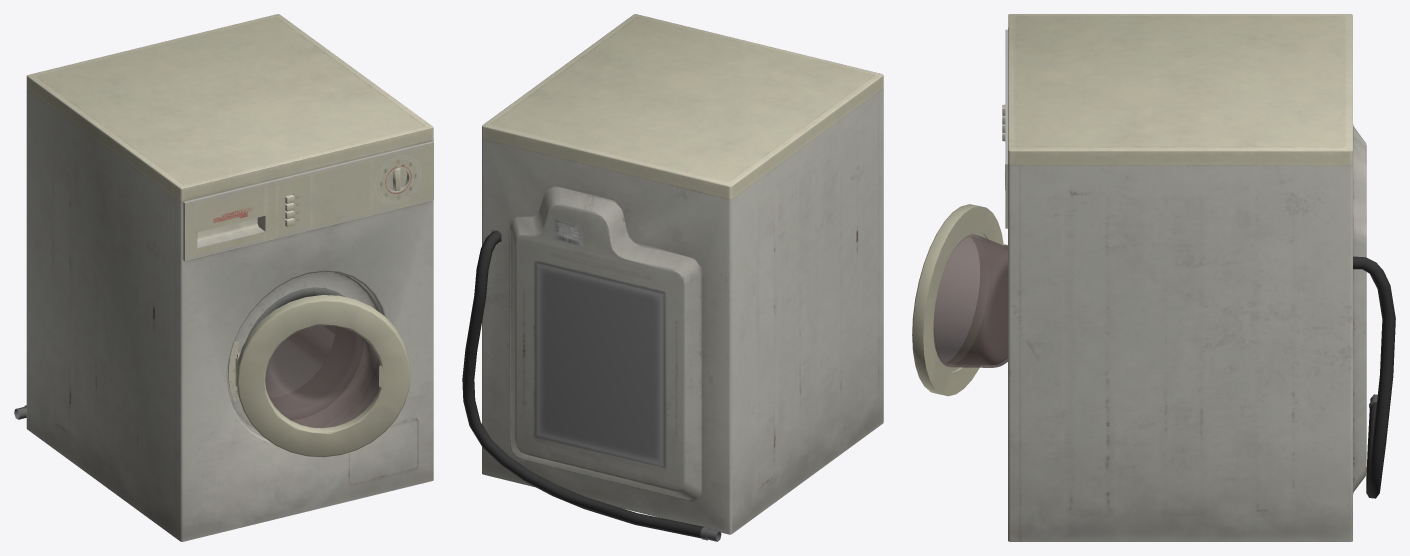
Rendered from washer.glb.
3 views of the same model, side by side, from view 1: azimuth 30°, elevation 25°; view 2: azimuth 150°, elevation 25°; view 3: azimuth 270°, elevation 25° (orthographic). The views are drawn at different scales.
Visible parts, largest first — view 1: washer_m1, washer_m4, washer_m10, washer_m6; view 2: washer_m1, washer_m7; view 3: washer_m1, washer_m4, washer_m7.
Part boxes in pixels (x1,y1,x2,y2): washer_m1: (26,14,433,541); washer_m4: (236,295,410,457); washer_m10: (246,287,363,419); washer_m6: (266,297,335,397); washer_m1: (482,14,883,534); washer_m7: (462,230,721,541); washer_m1: (1005,14,1366,541); washer_m4: (912,204,1007,396); washer_m7: (1353,256,1395,498).
Size of the model in its own units: 0.5645 by 0.7522 by 0.8256.
Materials: 1 (1 with a texture image).
